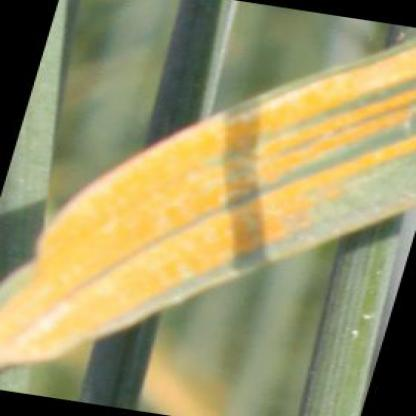Wheat-Yellow-rust: (59, 217, 209, 292), (118, 173, 276, 213), (160, 326, 234, 411), (197, 119, 378, 142), (280, 84, 402, 113), (285, 187, 381, 222), (20, 271, 50, 362), (161, 148, 298, 166), (62, 299, 132, 325), (308, 162, 380, 181), (342, 64, 415, 80), (400, 131, 415, 199), (2, 288, 14, 368), (221, 219, 272, 237), (324, 147, 392, 159), (227, 246, 261, 267), (59, 328, 91, 349), (78, 191, 110, 211), (43, 230, 52, 265), (392, 47, 415, 60), (133, 156, 153, 170)
